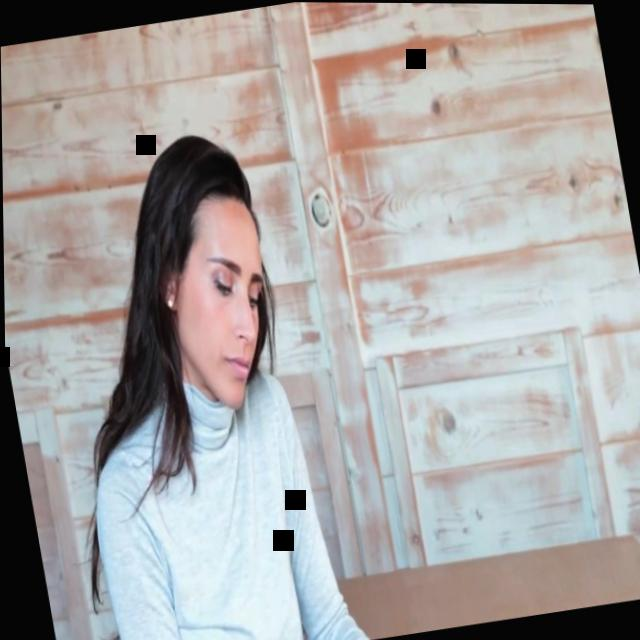NO-Mask: (160, 216, 284, 416)
